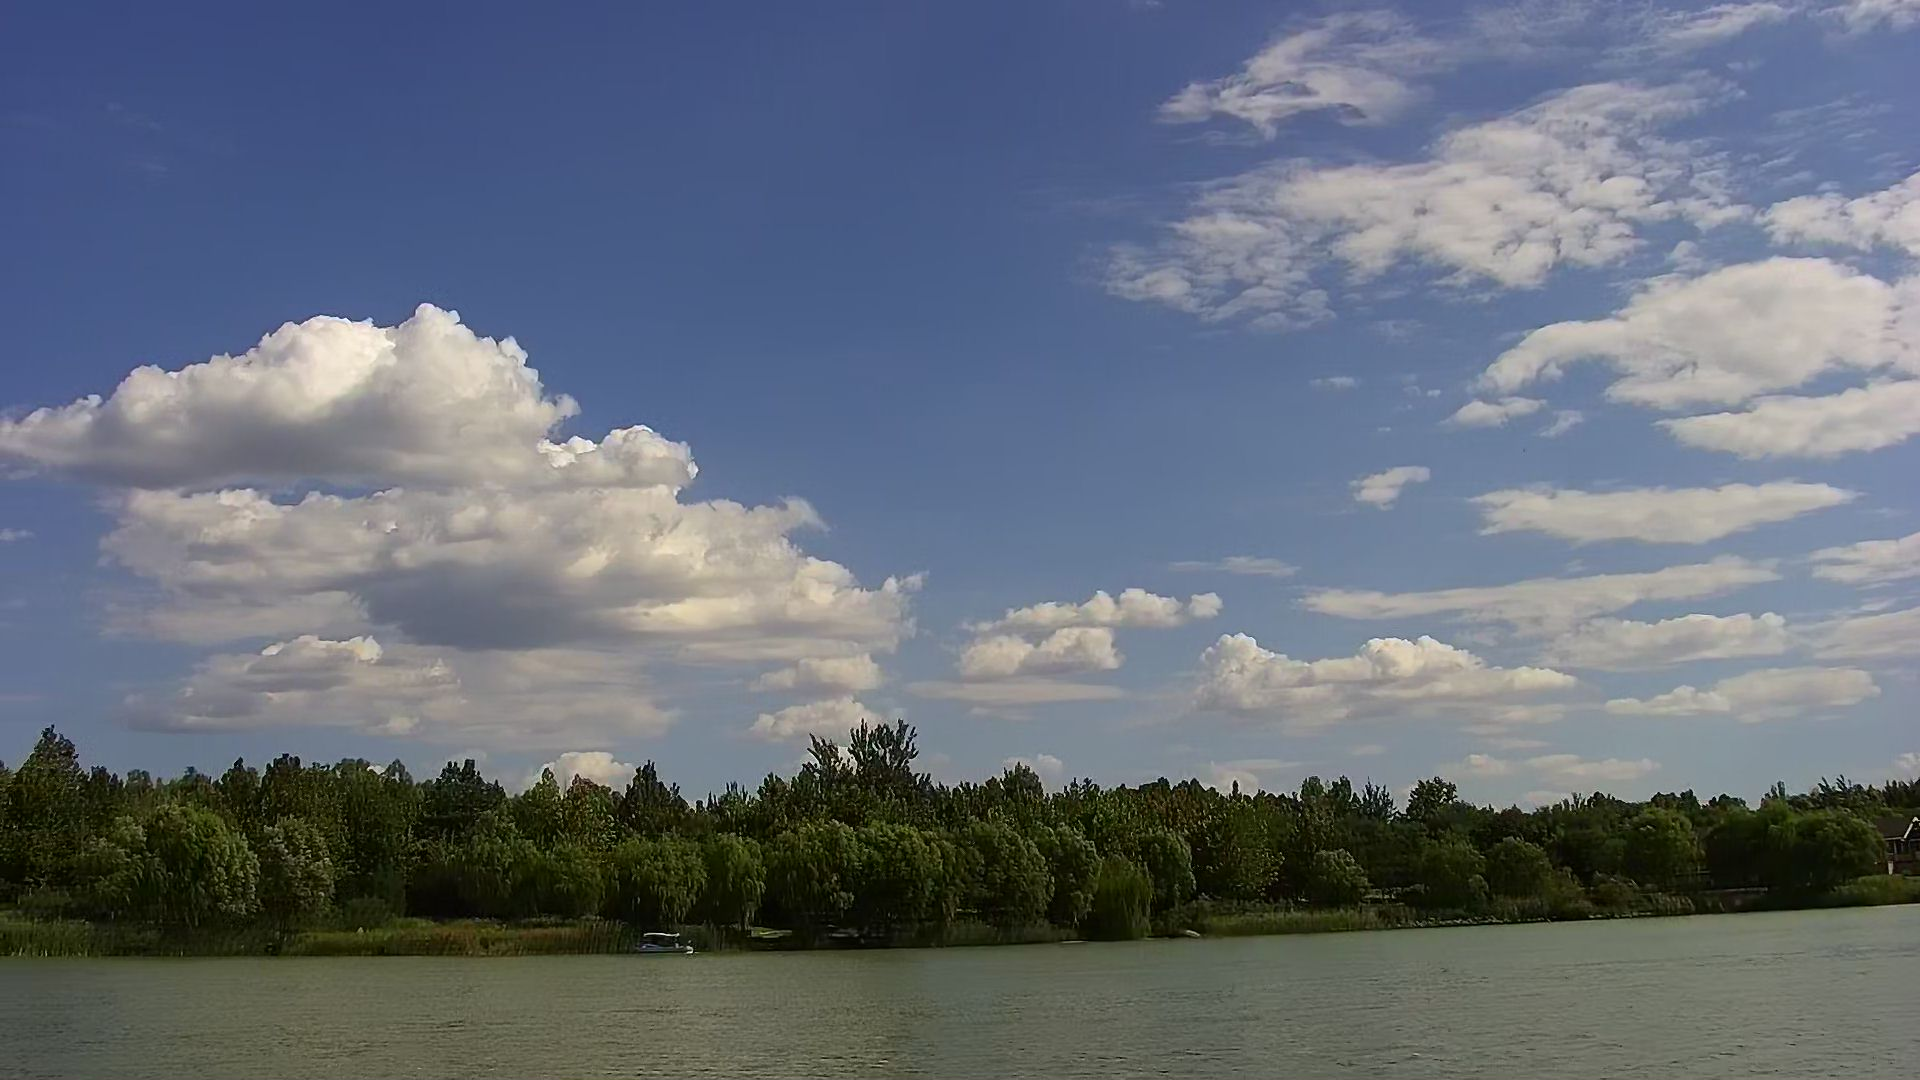boat: (628, 930, 698, 959)
